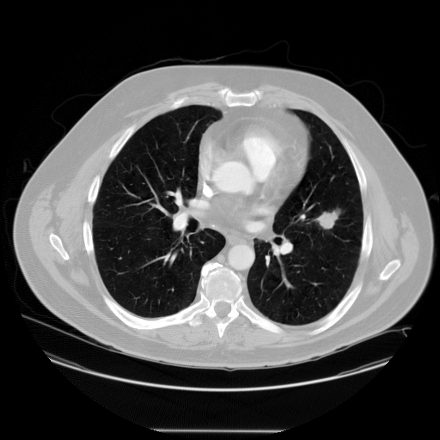nodule: (317, 208, 337, 228)
